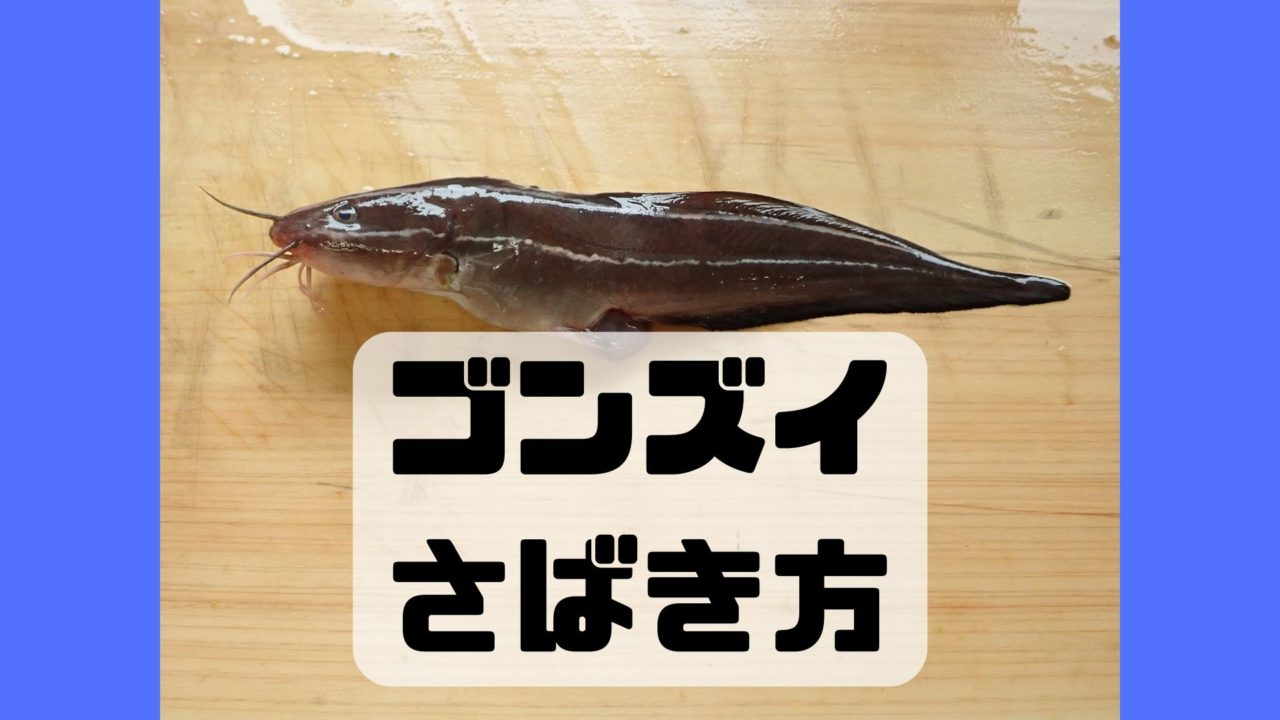gonzui: (217, 107, 1084, 331)
